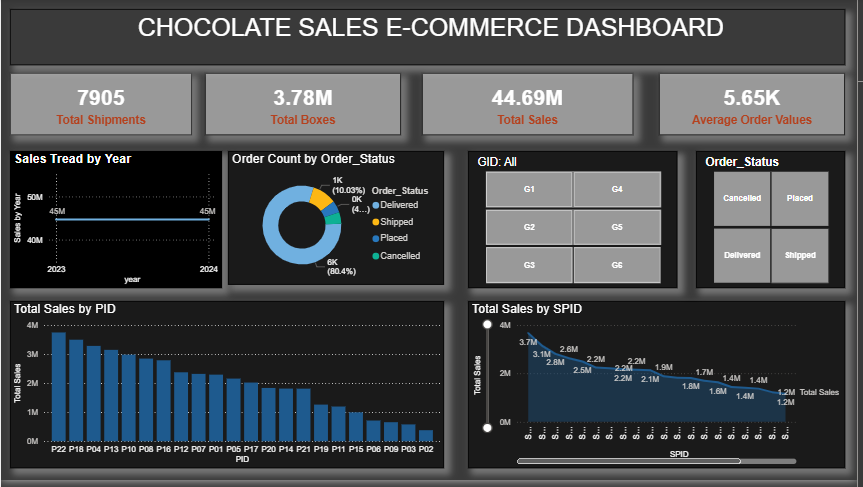

The page's visual inventory and layout, read from the dashboard file:
{"tool":"powerbi","page":{"name":"Page 1","canvas":[1280,720],"ordinal":0},"visuals":[{"type":"card","fields":{"Values":["Dimension Data.Total Boxes"]},"box":[305,112.1,293.1,92.7],"z":0},{"type":"card","fields":{"Values":["Dimension Data.Total Sales"]},"box":[629.5,112.1,315.5,92.7],"z":1},{"type":"card","fields":{"Values":["Dimension Data.Total Shipments"]},"box":[13.5,112.1,272.1,92.7],"z":2},{"type":"card","fields":{"Values":["Dimension Data.Average Order Values"]},"box":[983.9,112.1,278.1,92.7],"z":3},{"type":"lineChart","title":"Sales Tread by Year","fields":{"Category":["calendar.year"],"Y":["Dimension Data.Sales by Year"]},"box":[13.5,228.8,317,204.9],"z":4},{"type":"clusteredColumnChart","fields":{"Category":["shipments.PID"],"Y":["Dimension Data.Total Sales"]},"box":[13.5,453.1,649,249.7],"z":5},{"type":"areaChart","fields":{"Category":["shipments.SPID"],"Y":["Dimension Data.Total Sales"]},"box":[698.3,453.1,563.7,249.7],"z":6},{"type":"donutChart","fields":{"Y":["Dimension Data.Order Count"],"Category":["shipments.Order_Status"]},"box":[339.4,228.8,323,200.4],"z":7},{"type":"slicer","fields":{"Values":["shipments.Order_Status"]},"box":[1039.3,228.8,222.8,204.9],"z":9},{"type":"slicer","fields":{"Values":["shipments.GID"]},"box":[698.3,228.8,312.5,204.9],"z":11},{"type":"textbox","box":[13.5,16.4,1248.6,83.7],"z":12}]}

Visuals, with their boxes in screenshot pixels (x1, y1, x2, y2), scaled from the page's 1280x720 canvas onto the 863x487 screenshot:
card - Dimension Data.Total Boxes: (x1=206, y1=76, x2=403, y2=139)
card - Dimension Data.Total Sales: (x1=424, y1=76, x2=637, y2=139)
card - Dimension Data.Total Shipments: (x1=9, y1=76, x2=193, y2=139)
card - Dimension Data.Average Order Values: (x1=663, y1=76, x2=851, y2=139)
"Sales Tread by Year" lineChart: (x1=9, y1=155, x2=223, y2=293)
clusteredColumnChart - shipments.PID x Dimension Data.Total Sales: (x1=9, y1=306, x2=447, y2=475)
areaChart - shipments.SPID x Dimension Data.Total Sales: (x1=471, y1=306, x2=851, y2=475)
donutChart - Dimension Data.Order Count x shipments.Order_Status: (x1=229, y1=155, x2=447, y2=290)
slicer - shipments.Order_Status: (x1=701, y1=155, x2=851, y2=293)
slicer - shipments.GID: (x1=471, y1=155, x2=682, y2=293)
textbox: (x1=9, y1=11, x2=851, y2=68)
